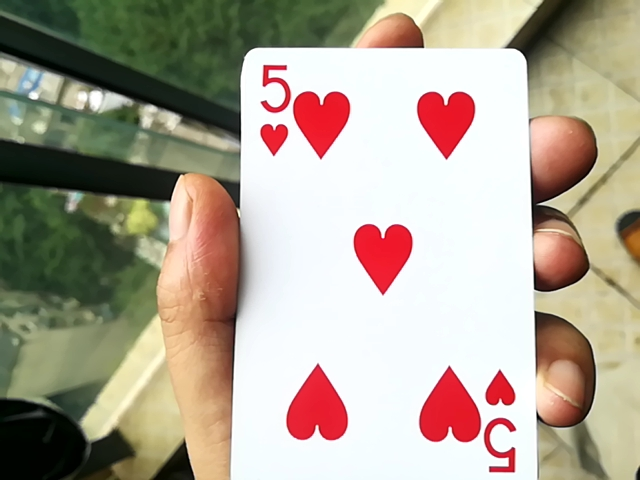hx 5: (210, 48, 548, 480)
